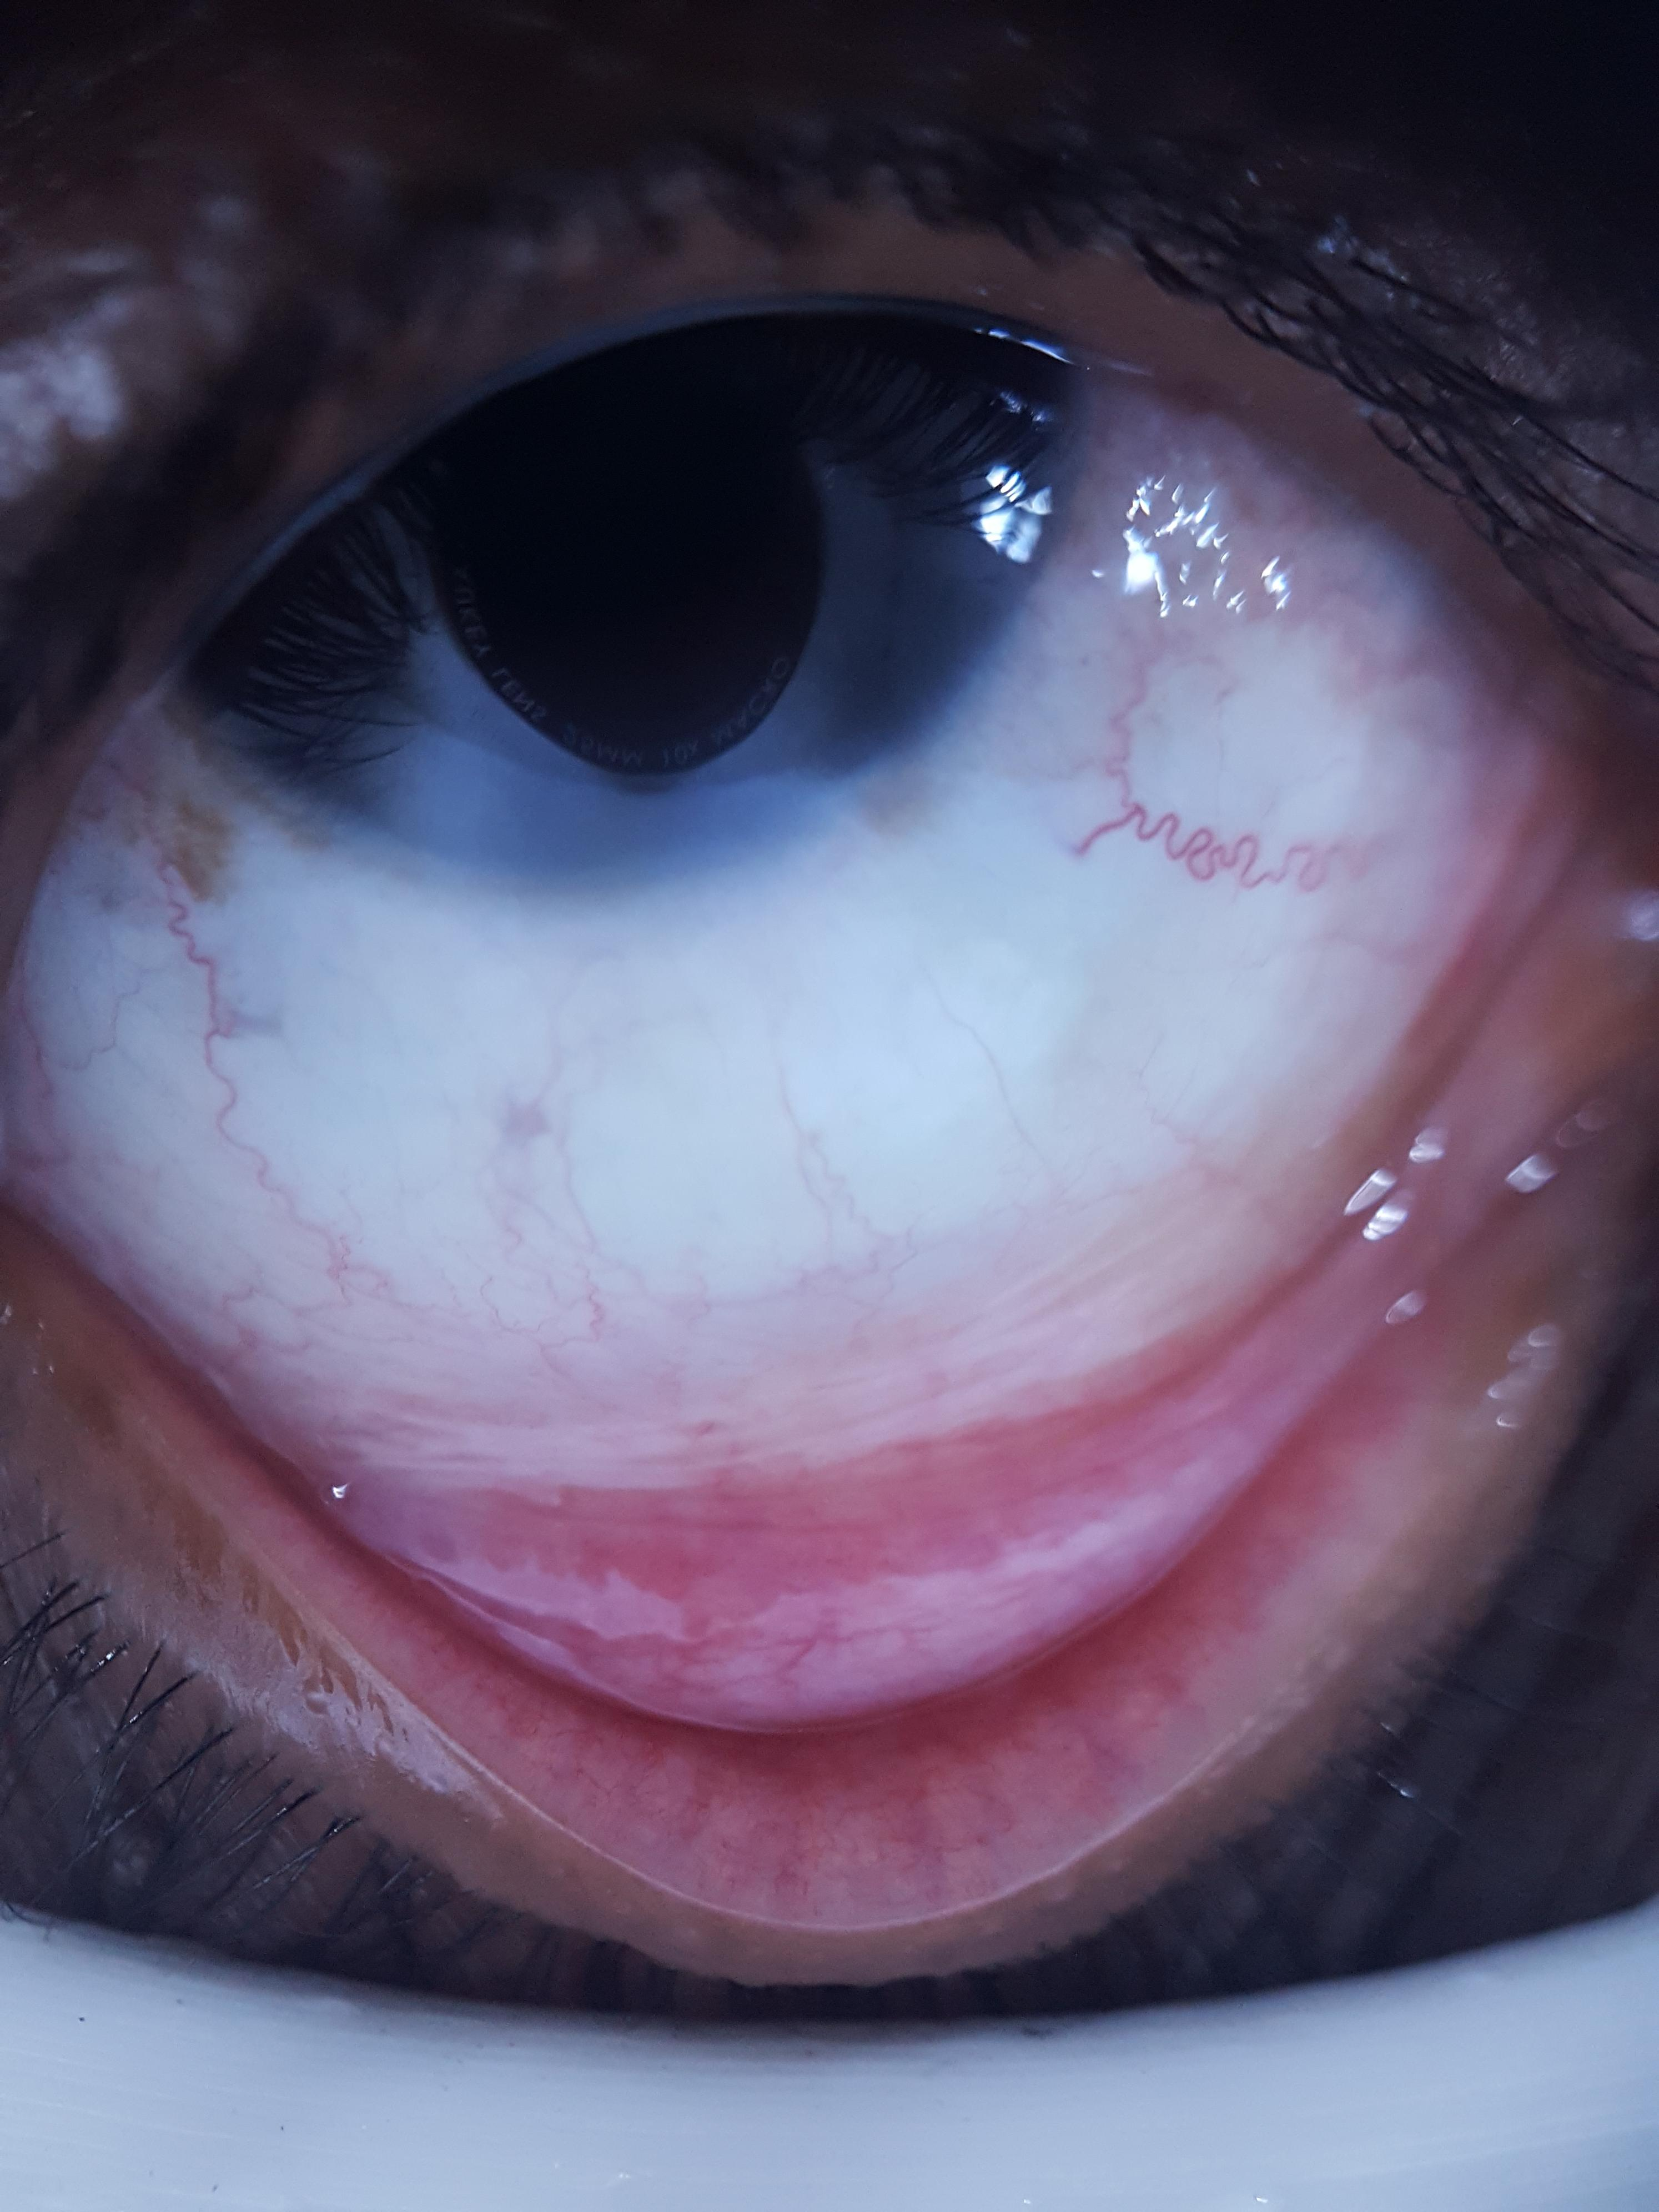forniceal: (288, 1240, 1391, 1735)
forniceal_palpebral: (143, 1230, 1434, 1909)
palpebral: (159, 1285, 1424, 1897)
